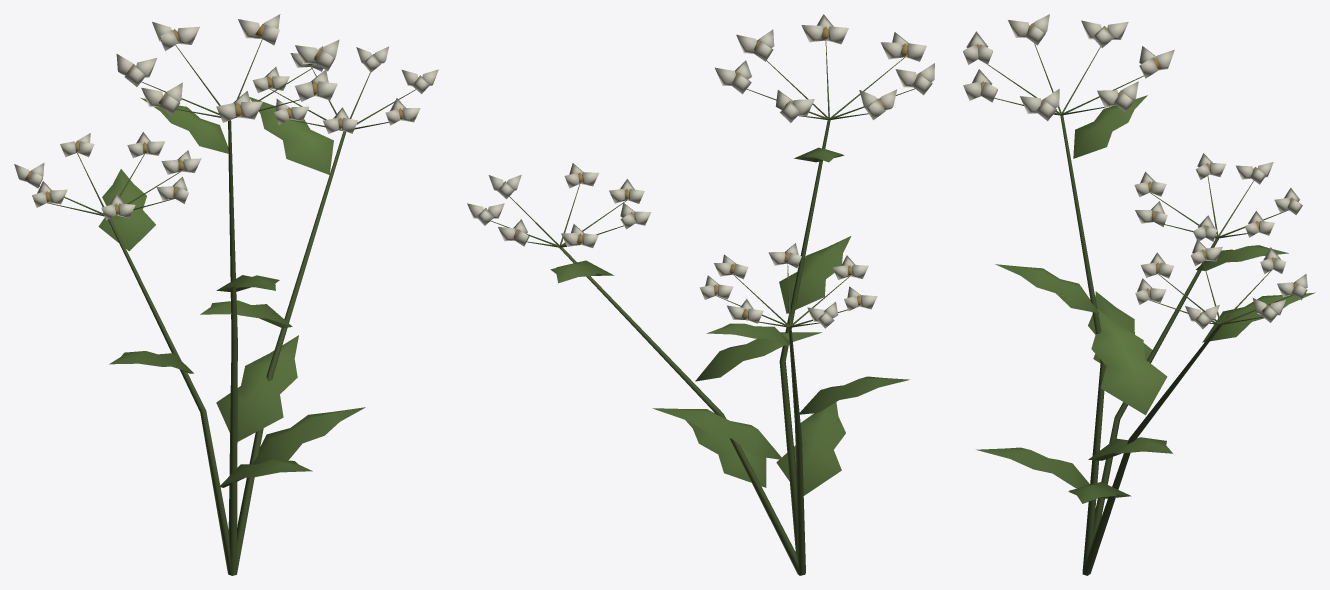
File: wild_carrot.glb
The picture shows the model from 3 angles, left to right: view 1: azimuth 30°, elevation 25°; view 2: azimuth 150°, elevation 25°; view 3: azimuth 270°, elevation 25°; orthographic projection. The views are drawn at different scales.
Parts seen in each view (by area): view 1: wild_carrot; view 2: wild_carrot; view 3: wild_carrot.
Boxes of the visible parts, left/top/right/bottom form: wild_carrot: left=14, top=14, right=438, bottom=575; wild_carrot: left=467, top=14, right=934, bottom=575; wild_carrot: left=963, top=14, right=1315, bottom=575.
Size of the model in its own units: 0.6811 by 0.8457 by 0.5321.
